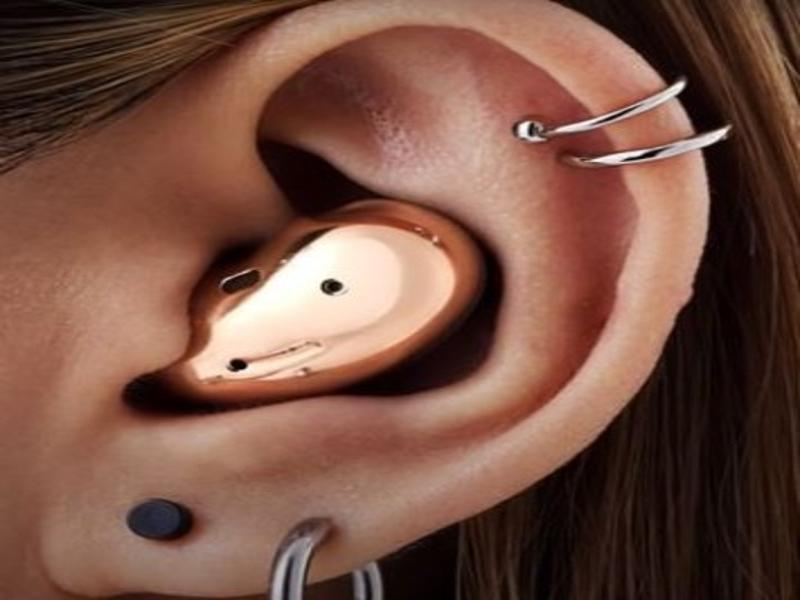headphone: (139, 197, 500, 421)
